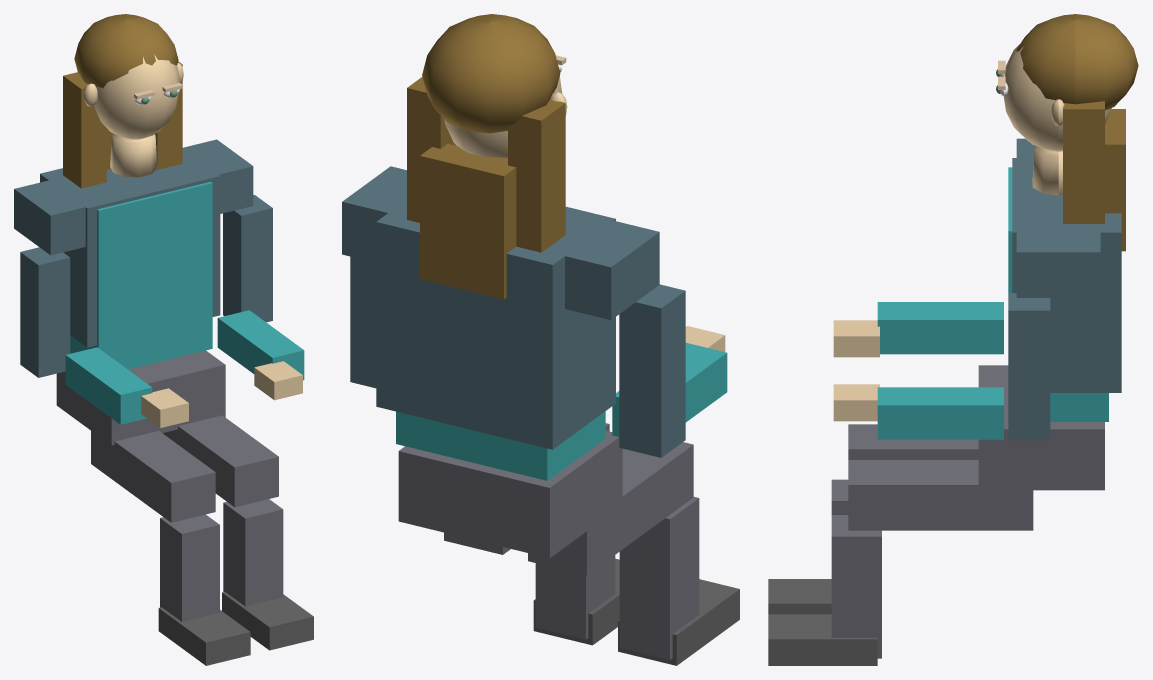
Rendered from interviewer_female_v1.glb.
3 views of the same model, side by side, from view 1: azimuth 30°, elevation 25°; view 2: azimuth 150°, elevation 25°; view 3: azimuth 270°, elevation 25° (orthographic). The views are drawn at different scales.
Parts seen in each view (by area): view 1: LowerBody, Blouse, Chest, Hair, Skin, Shoes; view 2: Chest, LowerBody, Hair, Blouse, Shoes, Skin; view 3: LowerBody, Chest, Hair, Blouse, Skin, Shoes.
Boxes of the visible parts, x1,y1,x2,y2 form: LowerBody: (56, 350, 283, 621); Blouse: (65, 181, 304, 424); Chest: (14, 139, 272, 377); Hair: (63, 14, 182, 188); Skin: (84, 54, 302, 427); Shoes: (158, 592, 313, 665); Chest: (342, 166, 685, 457); LowerBody: (398, 423, 699, 659); Hair: (407, 14, 565, 299); Blouse: (396, 342, 727, 480); Shoes: (533, 558, 739, 665); Skin: (444, 76, 725, 351); LowerBody: (831, 365, 1104, 658); Chest: (1008, 138, 1121, 440); Hair: (1016, 14, 1138, 251); Blouse: (877, 167, 1108, 439); Skin: (833, 41, 1111, 421); Shoes: (768, 579, 877, 665).
Bounding box in the file's own units: 0.74 × 1.62 × 0.88.
